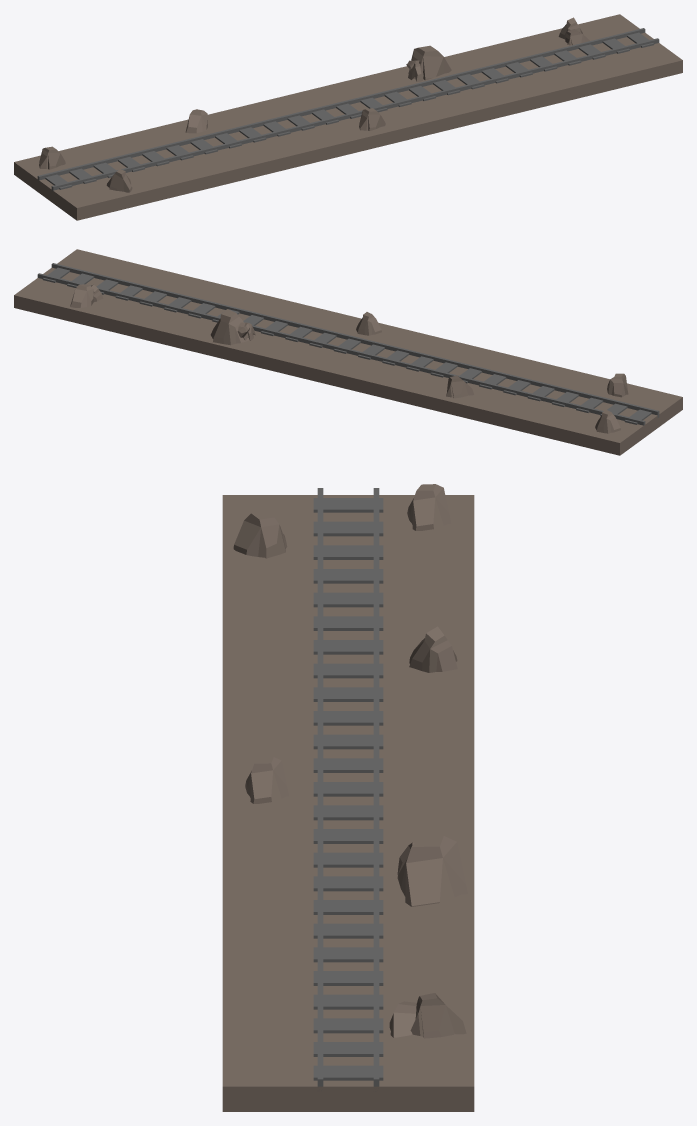
Rendered from terrain3.glb.
3 views of the same model, one above another, from view 1: azimuth 30°, elevation 25°; view 2: azimuth 150°, elevation 25°; view 3: azimuth 270°, elevation 25° (orthographic). The views are drawn at different scales.
Visible parts, largest first — view 1: Ground3, Rail3, rock; view 2: Ground3, Rail3, rock; view 3: Ground3, Rail3, rock.
Part boxes in pixels (<box>): Ground3: <box>14,14,682,220</box>; Rail3: <box>37,28,659,191</box>; rock: <box>359,108,385,130</box>; Ground3: <box>14,249,682,455</box>; Rail3: <box>37,263,659,425</box>; rock: <box>356,312,381,335</box>; Ground3: <box>222,484,474,1111</box>; Rail3: <box>313,488,383,1091</box>; rock: <box>245,757,288,803</box>.
Bounding box in the file's own units: 50 × 3.4 × 9.
